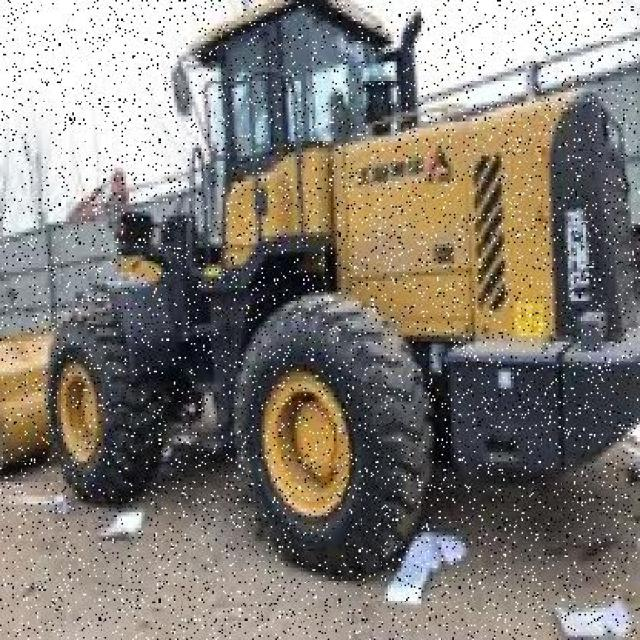buldozerpayloadergrader: (48, 4, 640, 573)
